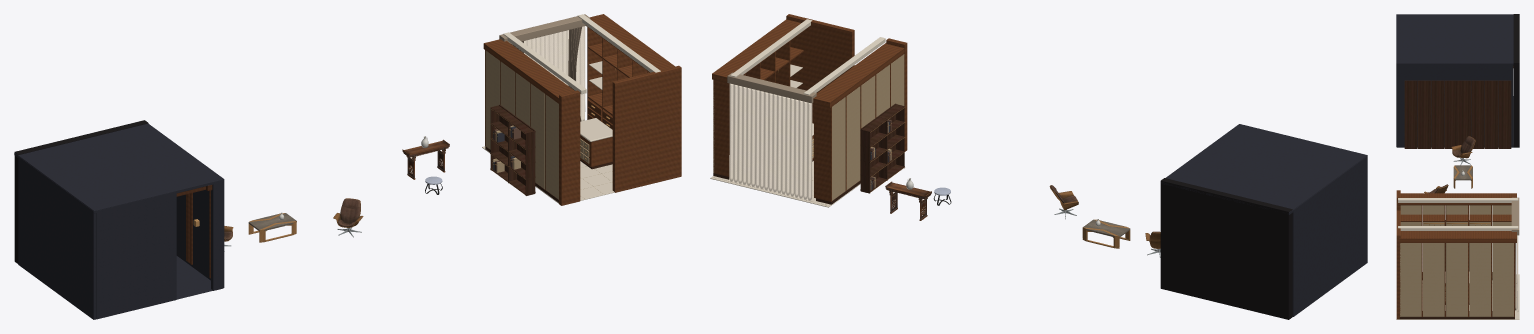
File: first.glb
The picture shows the model from 3 angles, left to right: view 1: azimuth 30°, elevation 25°; view 2: azimuth 150°, elevation 25°; view 3: azimuth 270°, elevation 25°; orthographic projection. The views are drawn at different scales.
Visible parts, largest first — view 1: SM_SAL_Cinema, SM_SAL_Dressing, SF_FittedLibraryAndCabinetry_first, SM_SAL_DressingLinen0, SM_SAL_DressingPelmet, SM_UPF_FamilyTable, SM_UPF_FamilyConsole, SM_UPF_FamilyChair, SM_SAL_DressingLinen2; view 2: SM_SAL_Cinema, SM_SAL_Dressing, SM_SAL_DressingLinen0, SF_FittedLibraryAndCabinetry_first, SM_SAL_DressingPelmet, SM_UPF_FamilyTable, SM_UPF_FamilyConsole; view 3: SM_SAL_Dressing, SM_SAL_Cinema, SF_FittedLibraryAndCabinetry_first, SM_UPF_FamilyChair2, SM_UPF_FamilyTable, SM_SAL_DressingPelmet, SM_SAL_DressingLinen0, SM_SAL_DressingLinen2, SM_UPF_FamilyChair.
Boxes of the visible parts, x1,y1,x2,y2 form: SM_SAL_Cinema: (14,120,224,319); SM_SAL_Dressing: (482,14,681,205); SF_FittedLibraryAndCabinetry_first: (490,104,535,195); SM_SAL_DressingLinen0: (524,26,585,121); SM_SAL_DressingPelmet: (499,14,590,43); SM_UPF_FamilyTable: (248,213,296,242); SM_UPF_FamilyConsole: (402,139,449,179); SM_UPF_FamilyChair: (333,198,363,237); SM_SAL_DressingLinen2: (568,27,581,121); SM_SAL_Cinema: (1160,124,1367,319); SM_SAL_Dressing: (710,14,907,207); SM_SAL_DressingLinen0: (729,83,812,200); SF_FittedLibraryAndCabinetry_first: (860,103,904,193); SM_SAL_DressingPelmet: (727,72,816,103); SM_UPF_FamilyTable: (1082,219,1130,248); SM_UPF_FamilyConsole: (885,181,931,220); SM_SAL_Dressing: (1396,190,1519,319); SM_SAL_Cinema: (1396,14,1519,147); SF_FittedLibraryAndCabinetry_first: (1404,80,1511,271); SM_UPF_FamilyChair2: (1451,136,1475,165); SM_UPF_FamilyTable: (1453,165,1472,188); SM_SAL_DressingPelmet: (1511,197,1519,235); SM_SAL_DressingLinen0: (1517,235,1518,311); SM_SAL_DressingLinen2: (1515,243,1516,310); SM_UPF_FamilyChair: (1424,184,1448,193).
Bounding box in the file's own units: 18.82 × 3.36 × 4.42.
23 materials, 13 textured.
